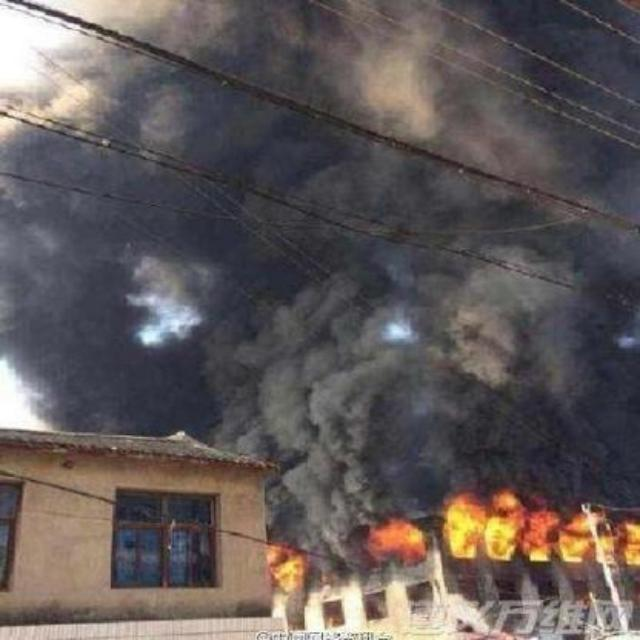Fire: (450, 493, 640, 571), (372, 516, 432, 568), (262, 541, 304, 591)
Smoke: (5, 43, 640, 489), (272, 494, 370, 540)
